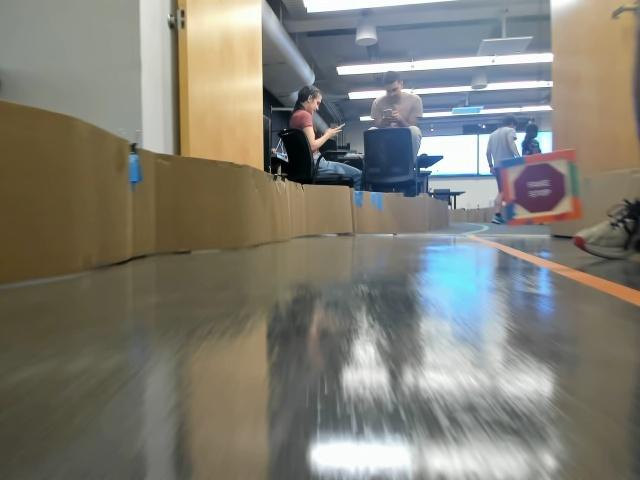Fake Stop: (509, 167, 561, 216)
